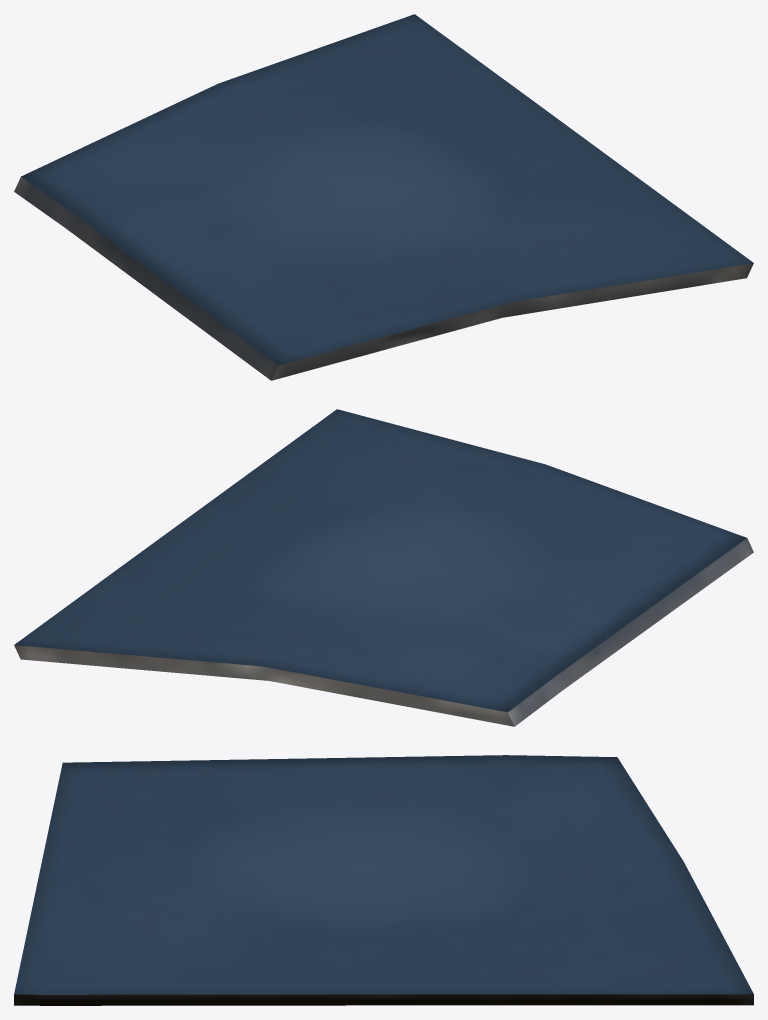
Rendered from CapriceRearWindow_WorldItem.fbx.
3 views of the same model, one above another, from view 1: azimuth 30°, elevation 25°; view 2: azimuth 150°, elevation 25°; view 3: azimuth 270°, elevation 25° (orthographic). The views are drawn at different scales.
Visible parts, largest first — view 1: RearRightWindow_obj; view 2: RearRightWindow_obj; view 3: RearRightWindow_obj.
Boxes of the visible parts, x1,y1,x2,y2 form: RearRightWindow_obj: [14, 14, 753, 380]; RearRightWindow_obj: [14, 409, 753, 726]; RearRightWindow_obj: [14, 755, 753, 1005].
Bounding box in the file's own units: 0.7131 × 0.0485 × 0.9036.
